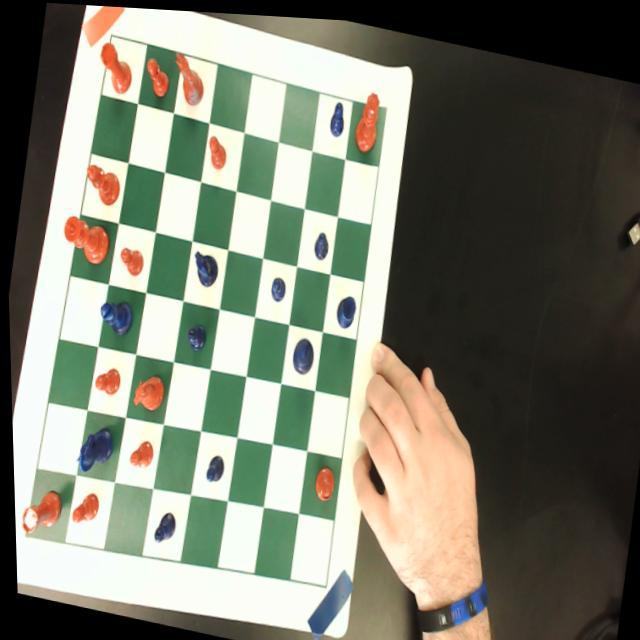B: (94, 296, 134, 338)
K: (288, 331, 315, 373)
N: (71, 422, 114, 479), (189, 248, 219, 287)
P: (149, 506, 175, 547), (326, 96, 347, 136), (201, 449, 225, 484), (182, 321, 207, 353), (310, 226, 331, 259), (267, 272, 287, 301)
R: (332, 290, 356, 328)
b: (80, 162, 122, 209), (307, 460, 336, 503)
k: (57, 213, 112, 268)
n: (167, 49, 209, 109), (127, 370, 165, 417)
p: (142, 53, 174, 97), (67, 488, 98, 529), (124, 435, 154, 470), (90, 363, 120, 397), (204, 131, 230, 169), (116, 243, 145, 277)
q: (351, 84, 384, 152)
r: (15, 483, 62, 543), (95, 37, 138, 96)
